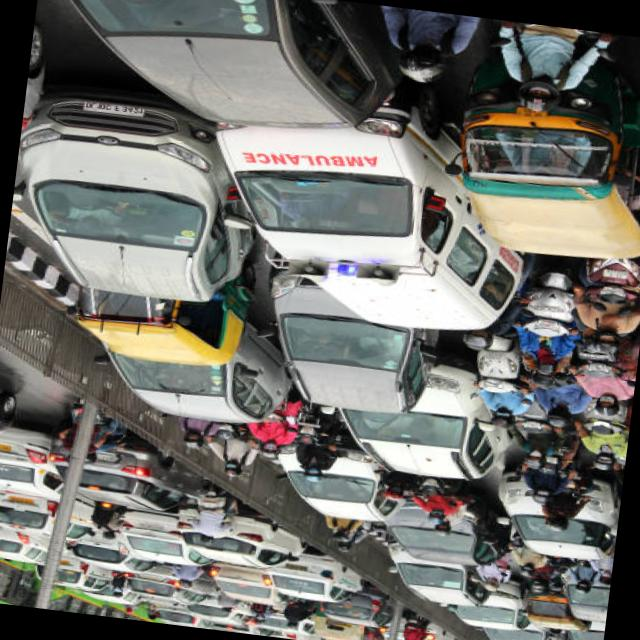ambulance: (195, 98, 530, 336), (212, 132, 430, 258)
